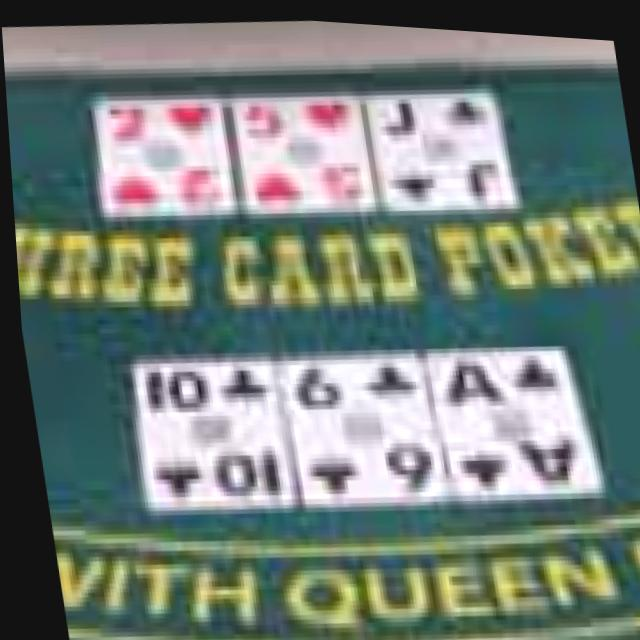Card-10: (129, 358, 286, 506)
Card-2: (90, 97, 232, 211)
Card-5: (229, 90, 374, 210)
Card-6: (278, 345, 441, 500)
Card-A: (424, 340, 596, 489)
Card-J: (366, 86, 515, 204)
